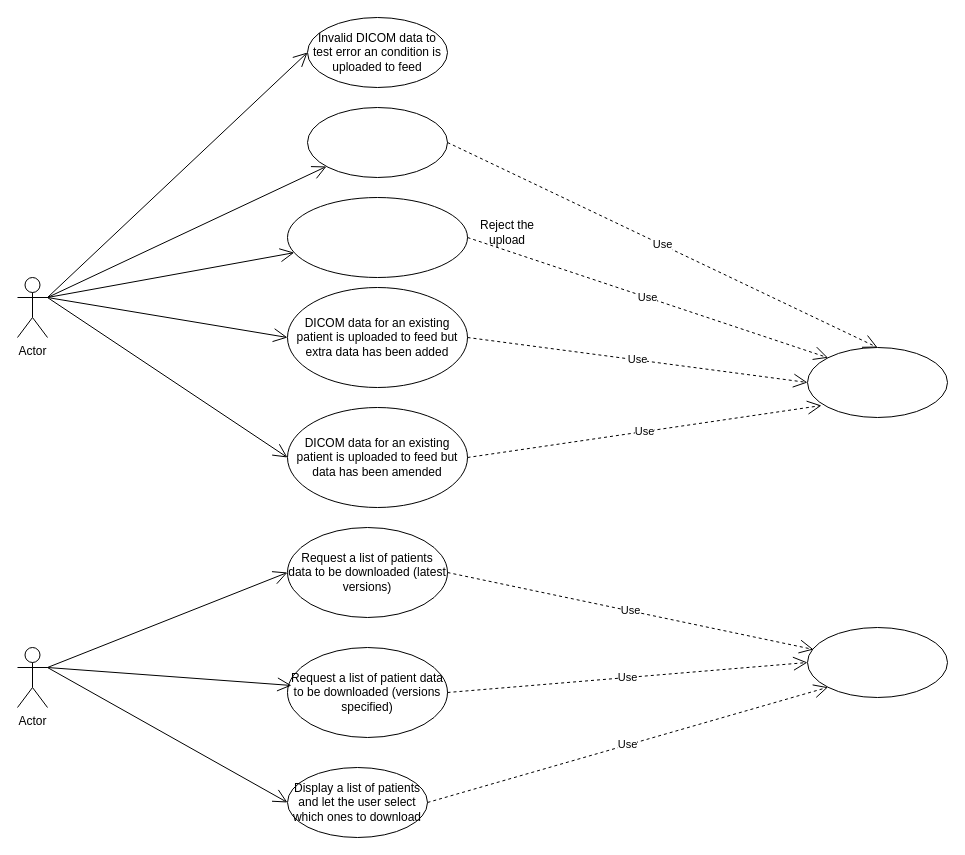
The diagram is 965 pixels wide and 855 high, and some of its shapes have lost their labels. Here are the shapes that lost their labels. From the top down, the centre of each, then its label:
At pixel 377 142: "DICOM data for a new patient is uploaded to feed".
At pixel 377 237: "Existing DICOM data for an existing patient is uploaded to feed".
At pixel 877 382: "Validate data".
At pixel 877 662: "Check if patient data has already been downloaded".
